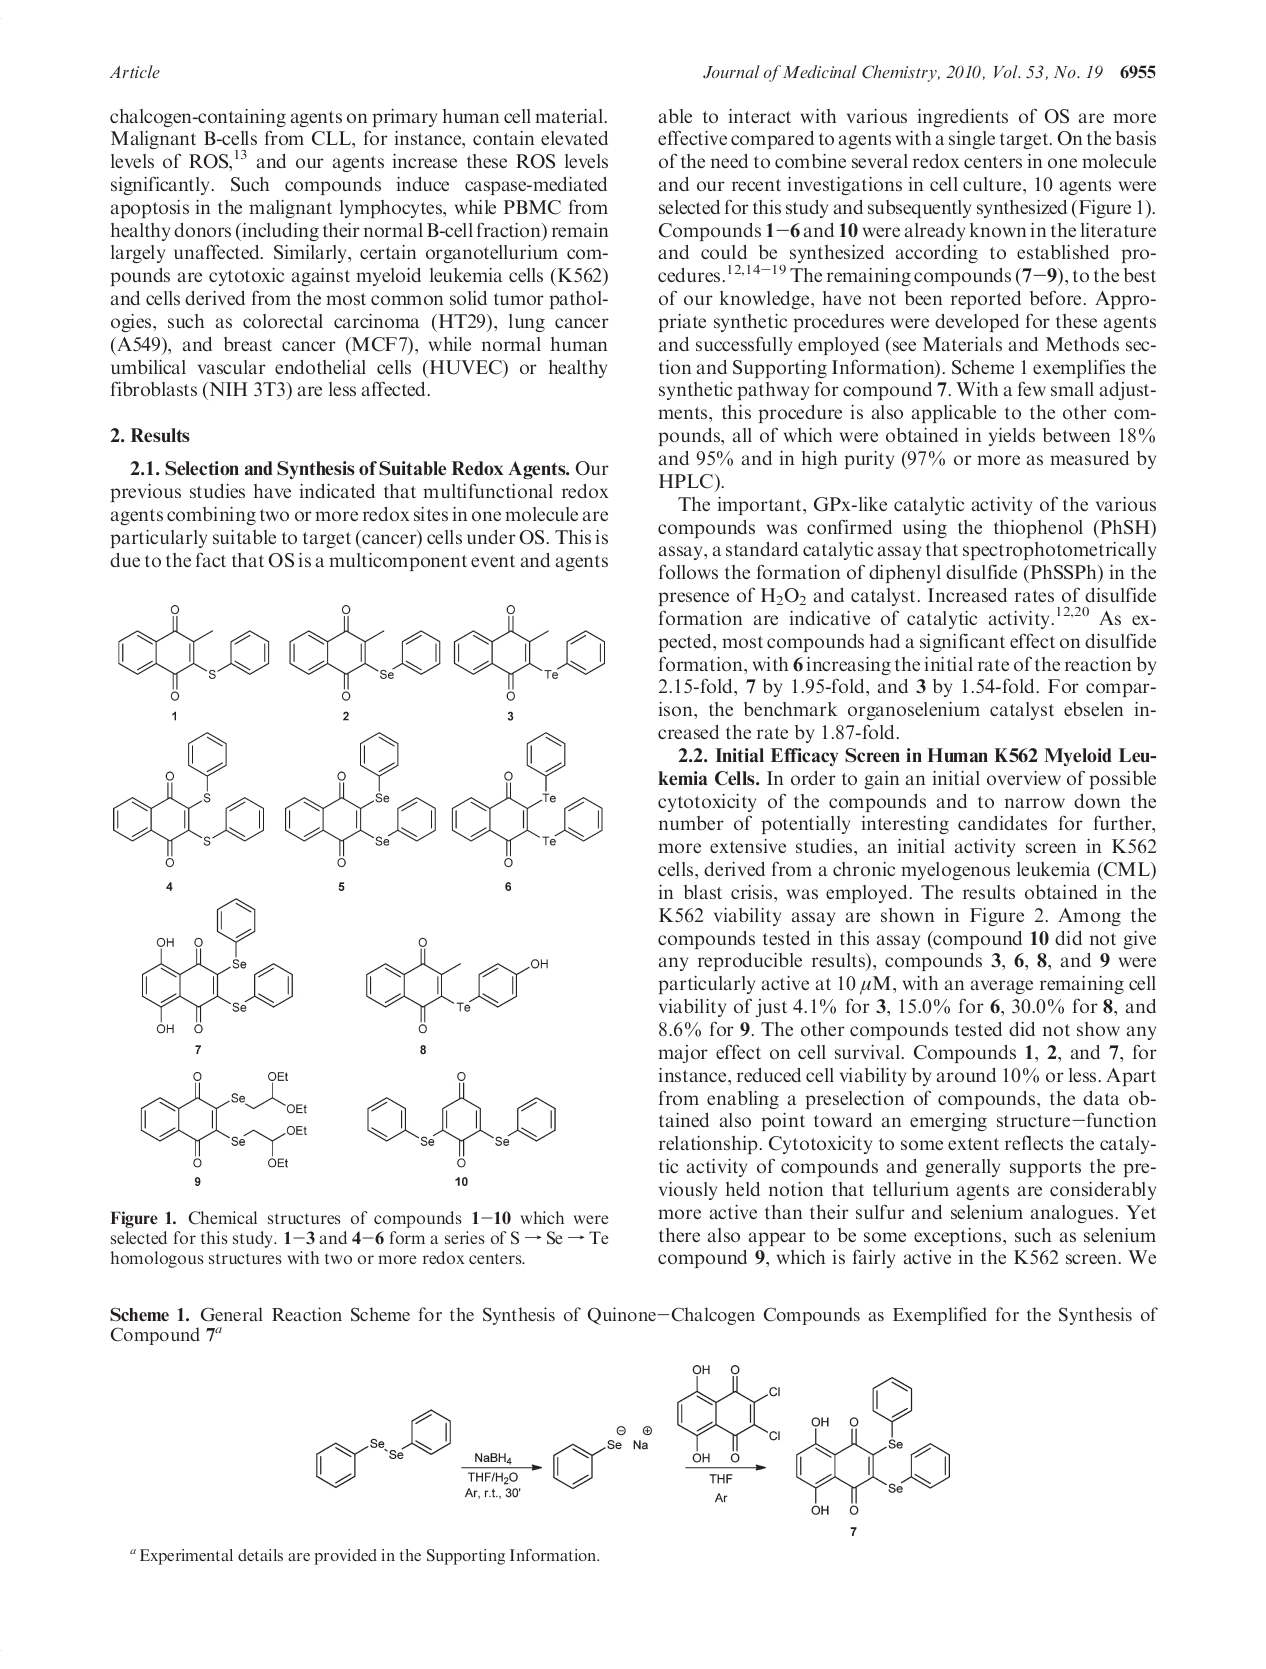exist_molecular: (793, 1372, 953, 1516), (140, 896, 295, 1037), (282, 730, 439, 868), (451, 730, 606, 868), (110, 730, 265, 867), (364, 1071, 559, 1168), (364, 934, 551, 1035), (140, 1068, 310, 1172), (114, 602, 271, 702), (286, 602, 442, 702), (449, 602, 605, 702), (314, 1408, 453, 1489), (674, 1363, 783, 1463), (551, 1426, 626, 1489)
